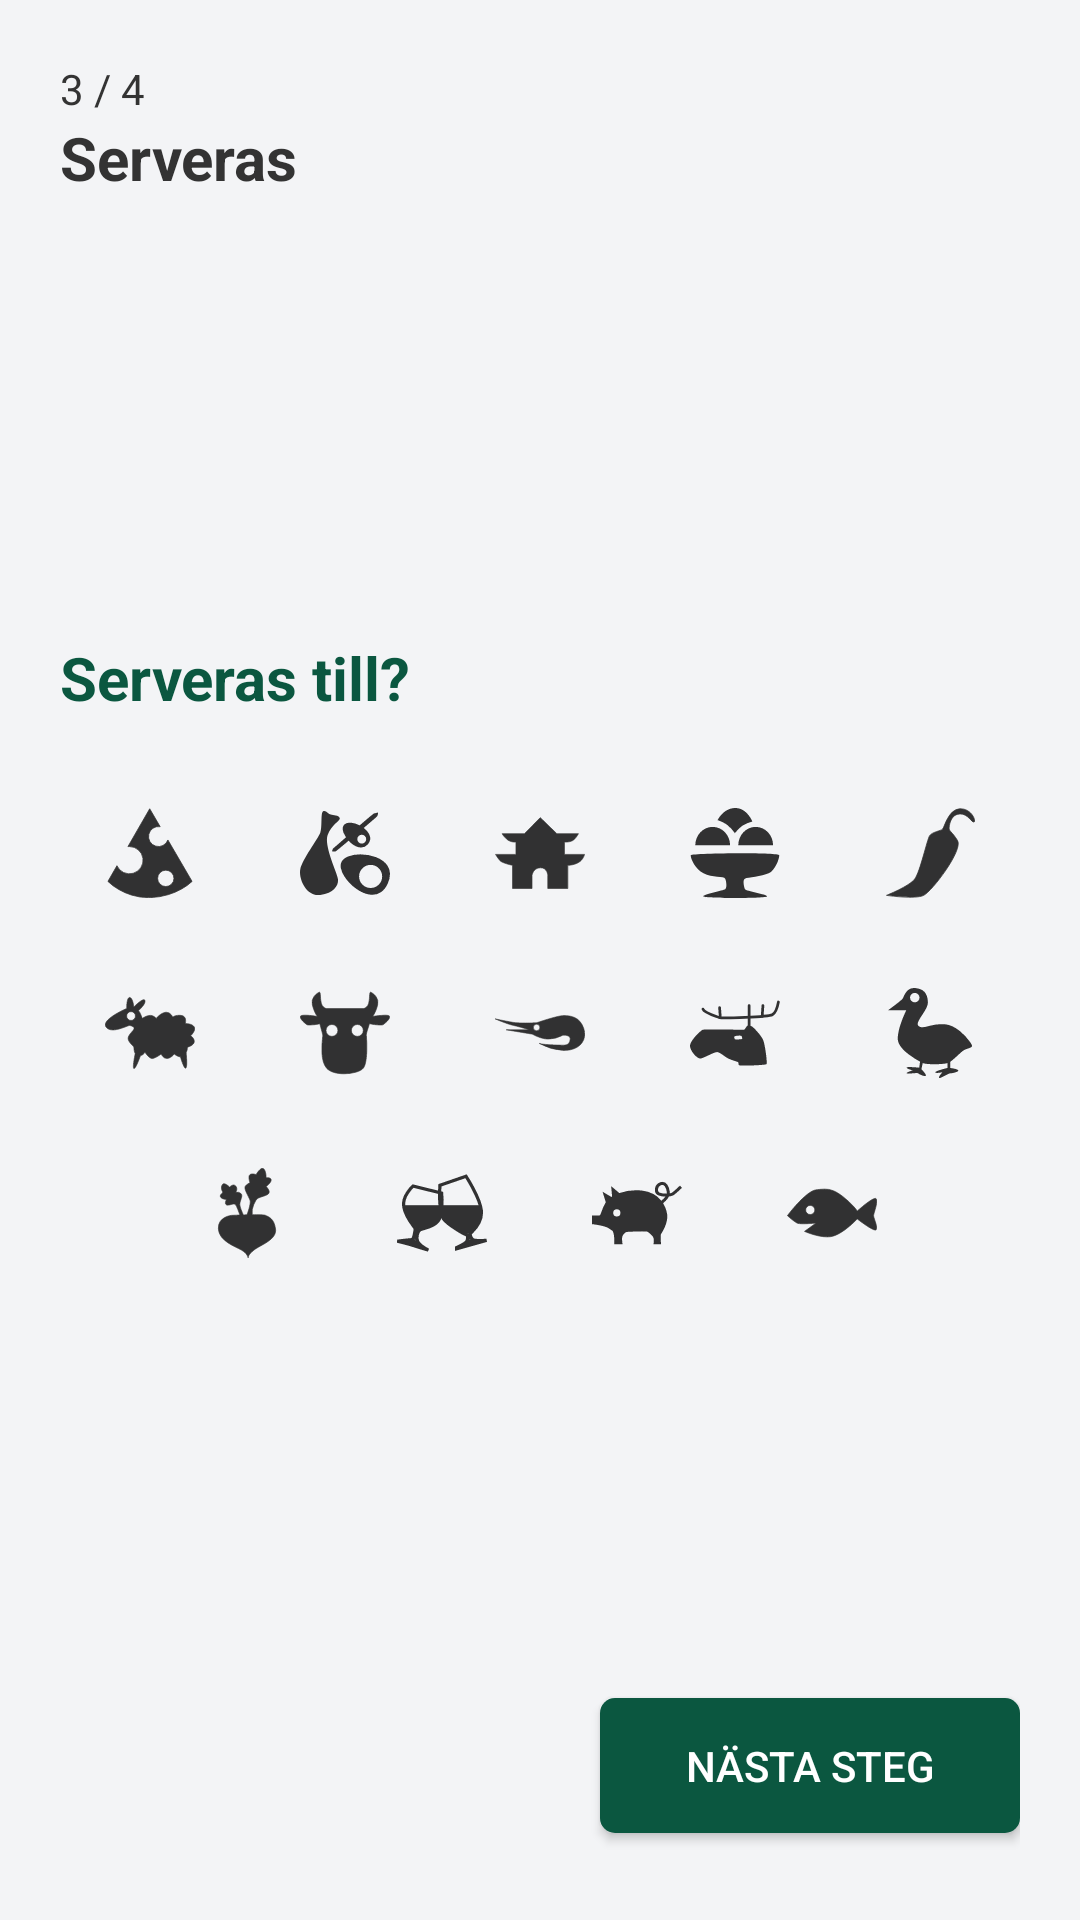

Icon bounding boxes for this 1080x1920 phone screenshot, format (x1, y1, x2, y2):
bird: (888, 988, 972, 1078)
cheese: (107, 808, 193, 898)
chili: (886, 808, 975, 898)
cow: (300, 991, 390, 1075)
dessert: (690, 808, 780, 898)
fish: (787, 1188, 877, 1238)
glas: (397, 1174, 487, 1252)
moose: (690, 1000, 780, 1066)
pig: (592, 1182, 682, 1245)
radish: (218, 1168, 276, 1258)
sheep: (105, 997, 195, 1069)
shrimp: (495, 1015, 585, 1051)
temple: (495, 817, 585, 889)
